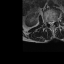CCS_normal: (50, 19, 52, 27)
LFS_stenosis: (54, 17, 56, 24)
LLS_stenosis: (52, 19, 54, 25)
RFS_normal: (46, 19, 48, 25)
RLS_normal: (48, 19, 51, 26)
